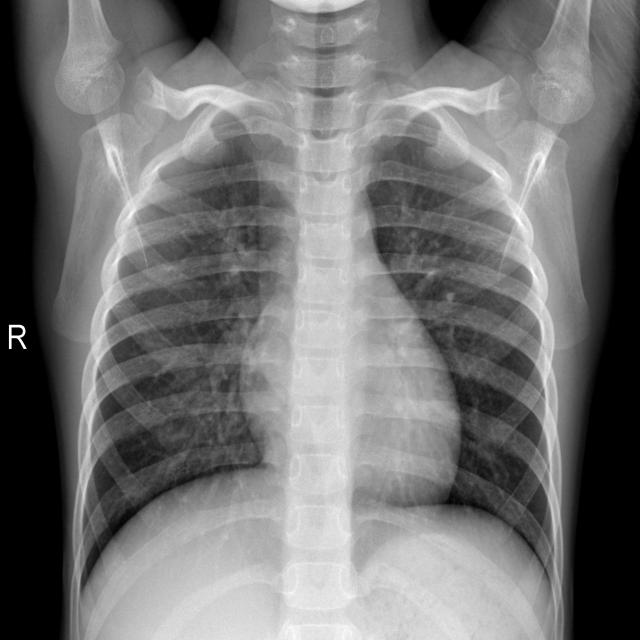no-pneumonia: (76, 124, 295, 588), (368, 113, 561, 607)
